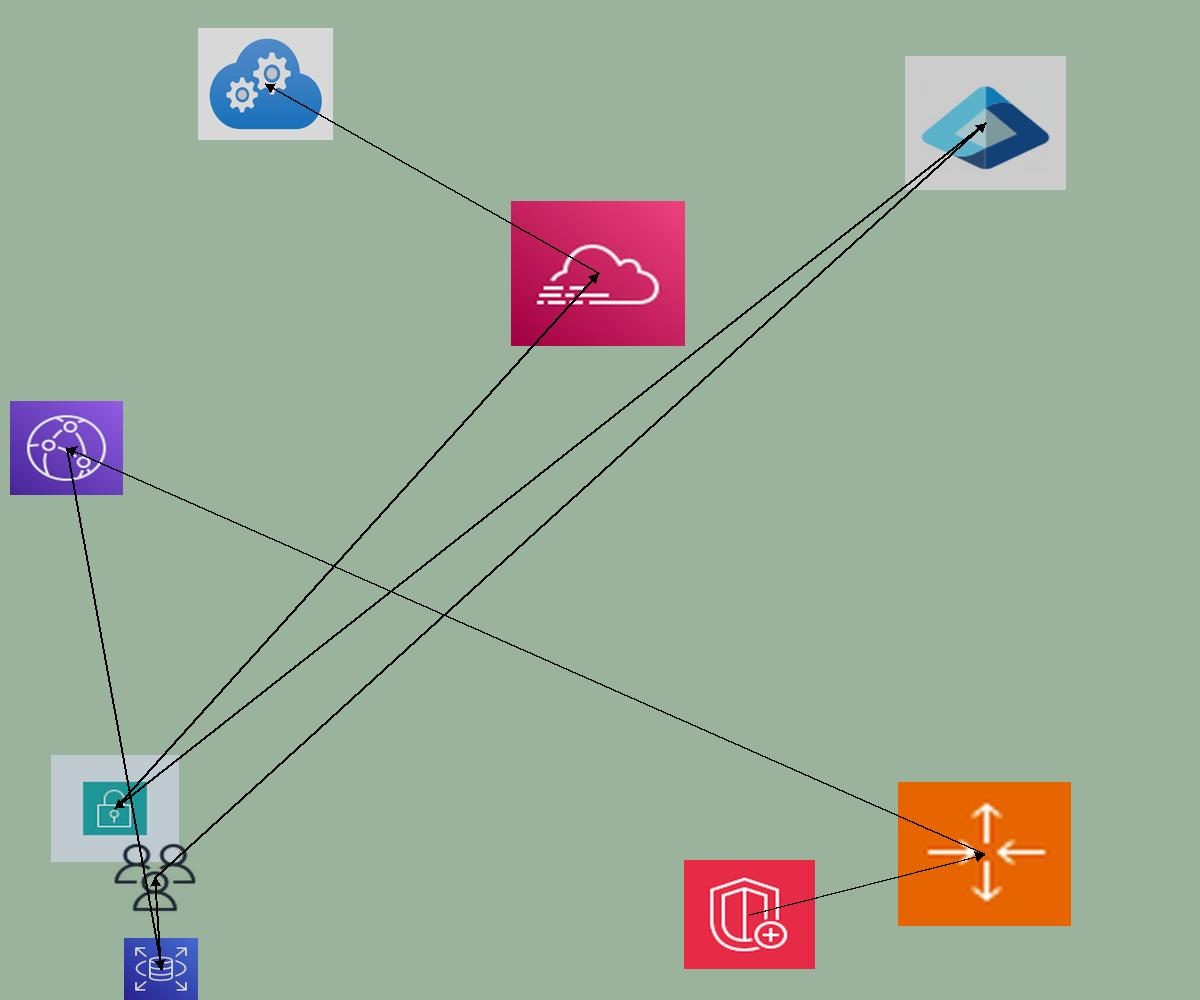AWS-CloudFront: (10, 401, 123, 495)
AWS-CloudTrail: (511, 201, 685, 346)
AWS-Private-subnet: (51, 755, 179, 862)
AWS-RDS: (124, 938, 198, 1000)
AWS-Res_Users: (111, 841, 199, 914)
AWS-Scaling-group: (898, 782, 1071, 926)
AWS-Shield: (684, 860, 815, 969)
Azure_cloud_services: (198, 28, 333, 140)
Azure_microsoft_entra: (905, 56, 1066, 190)
